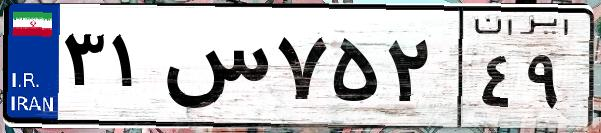1: (110, 28, 158, 98)
2: (385, 28, 445, 110)
3: (57, 26, 110, 100)
4: (475, 38, 525, 113)
5: (330, 28, 385, 110)
7: (270, 28, 330, 110)
9: (525, 38, 570, 115)
س: (158, 20, 270, 120)
